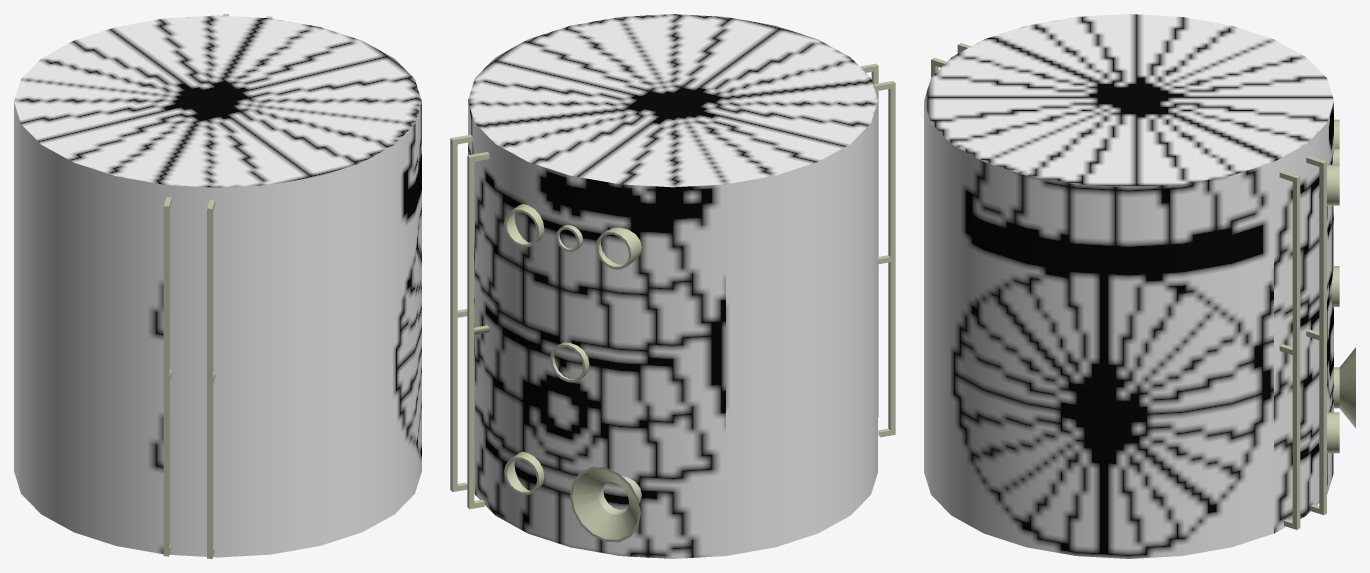
File: eridani_crew_s1p5_1_interior.obj
3 renders of one model, left to right at view 1: azimuth 30°, elevation 25°; view 2: azimuth 150°, elevation 25°; view 3: azimuth 270°, elevation 25°, orthographic.
Visible parts, largest first — view 1: internal1, mask1; view 2: internal1, mask1; view 3: internal1, mask1.
Part boxes in pixels (bbox=[...]): internal1: bbox=[14, 15, 421, 557]; mask1: bbox=[163, 14, 272, 558]; internal1: bbox=[468, 14, 877, 558]; mask1: bbox=[450, 63, 895, 542]; internal1: bbox=[924, 14, 1333, 558]; mask1: bbox=[931, 43, 1355, 529].
Size of the model in its own units: 1.88 by 1.88 by 1.98.
Materials: 2 (1 with a texture image).
